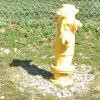a fire hydrant: (48, 3, 84, 78)
